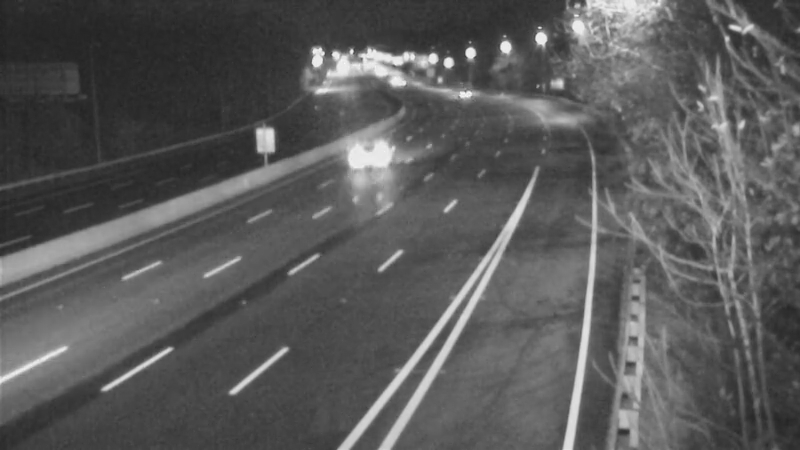vehicle: (333, 114, 413, 194), (435, 67, 485, 117)
